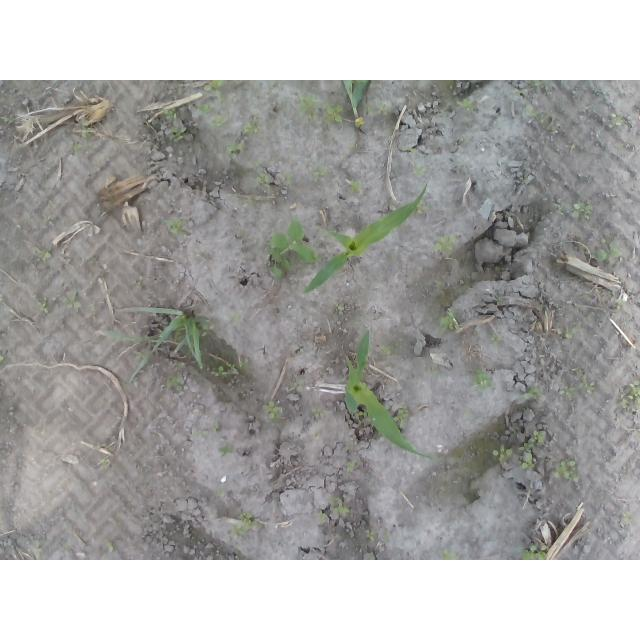Maize: (305, 186, 427, 295), (343, 329, 435, 460), (342, 80, 370, 132)
Weeds: (108, 306, 205, 388), (269, 214, 320, 280), (297, 94, 344, 126), (559, 365, 598, 399), (519, 430, 545, 470), (162, 108, 187, 145), (589, 237, 624, 263), (552, 457, 581, 484), (619, 376, 640, 412), (161, 216, 191, 240), (231, 511, 257, 538), (470, 367, 496, 393), (432, 233, 457, 260), (526, 106, 554, 130), (255, 159, 274, 193), (199, 80, 225, 104), (437, 308, 464, 331), (166, 362, 187, 391), (261, 399, 283, 426), (242, 112, 263, 137), (521, 383, 547, 402), (491, 443, 514, 464), (520, 544, 548, 561), (572, 199, 593, 221), (224, 142, 249, 160), (524, 80, 552, 96), (189, 101, 213, 119), (210, 362, 237, 378), (197, 319, 219, 338), (227, 350, 249, 369), (331, 495, 352, 514), (374, 101, 394, 119), (486, 330, 506, 348), (393, 406, 409, 427), (408, 159, 426, 177), (33, 295, 50, 314), (64, 291, 81, 310), (33, 246, 53, 262), (455, 96, 475, 112), (555, 328, 578, 341), (608, 294, 625, 311), (80, 126, 95, 145), (287, 379, 306, 394), (277, 92, 291, 112), (608, 112, 624, 128), (241, 193, 258, 208), (312, 164, 332, 176), (424, 364, 441, 377), (193, 246, 210, 259), (96, 458, 113, 471), (383, 342, 401, 354), (32, 542, 44, 560), (101, 537, 115, 552), (191, 429, 210, 440), (440, 549, 459, 560), (0, 112, 16, 125), (285, 174, 297, 191), (175, 80, 186, 98), (417, 191, 428, 209), (130, 276, 145, 289), (208, 116, 224, 128), (439, 84, 454, 96), (367, 529, 378, 544), (347, 143, 362, 154), (79, 255, 97, 264), (2, 151, 18, 161), (218, 446, 234, 456), (356, 406, 369, 418), (95, 442, 112, 451), (232, 313, 242, 328), (351, 179, 361, 194), (405, 144, 417, 156), (355, 117, 368, 128), (214, 487, 227, 498), (320, 511, 329, 526), (514, 88, 529, 97), (553, 203, 572, 210), (68, 143, 81, 153), (435, 279, 446, 290), (46, 199, 58, 209), (622, 510, 632, 522), (62, 542, 72, 554), (0, 354, 8, 369), (312, 408, 325, 417), (86, 311, 98, 320), (462, 136, 474, 145), (494, 264, 507, 272), (311, 431, 321, 441), (211, 423, 221, 433), (363, 104, 370, 117), (615, 144, 625, 153), (345, 110, 356, 118), (345, 463, 353, 474), (351, 543, 361, 551), (495, 296, 503, 305), (568, 144, 577, 152), (366, 553, 376, 560), (383, 535, 390, 545), (335, 303, 342, 312), (329, 230, 338, 235), (411, 220, 417, 225), (396, 237, 401, 241)
